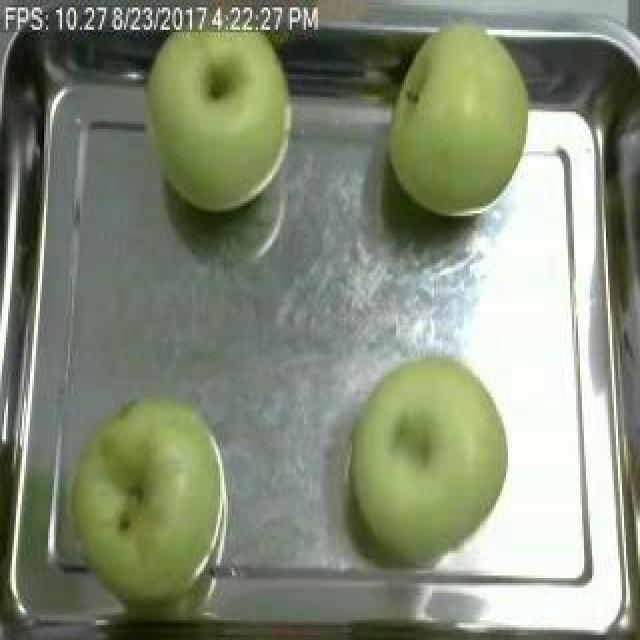Rotten Apple: (343, 341, 517, 577), (130, 14, 310, 237), (67, 378, 237, 597), (370, 11, 544, 217)
